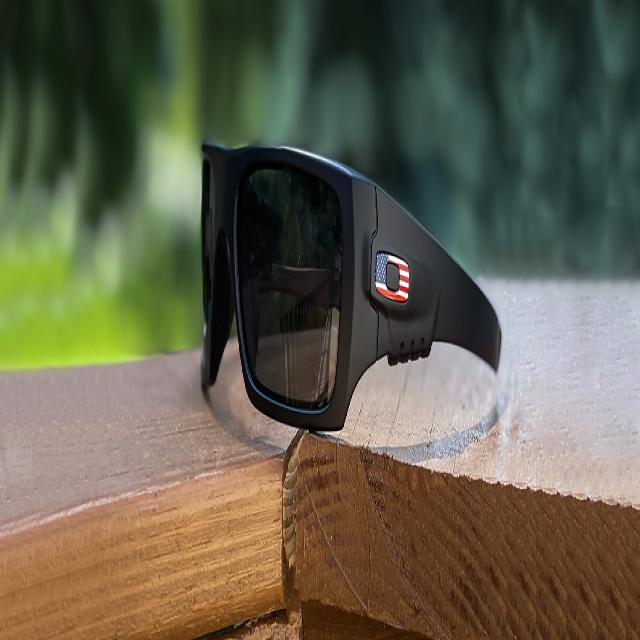Protective Glasses: (183, 115, 505, 478)
